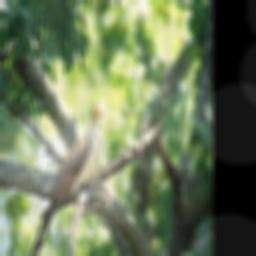Cuckoo: (23, 100, 106, 256)
